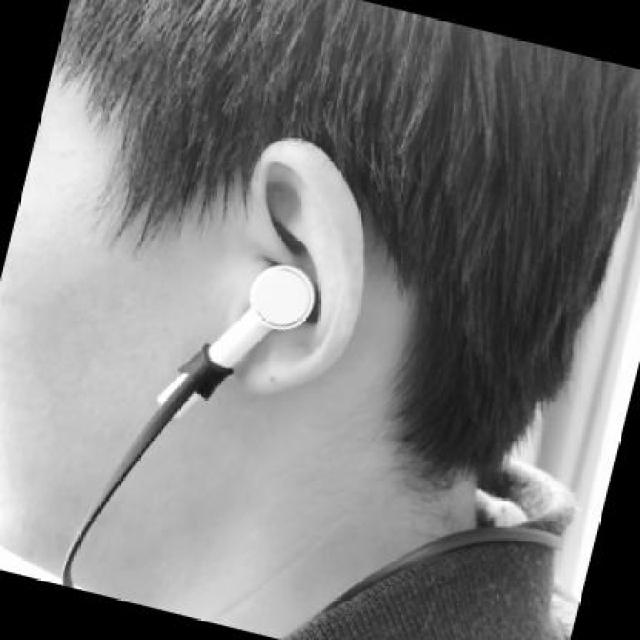earphone: (191, 200, 330, 463)
